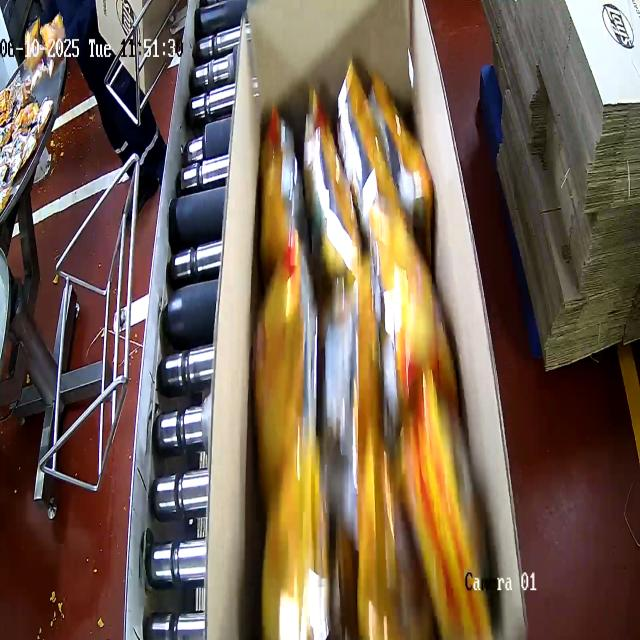FRENCH_CHEESE: (252, 71, 472, 640)
